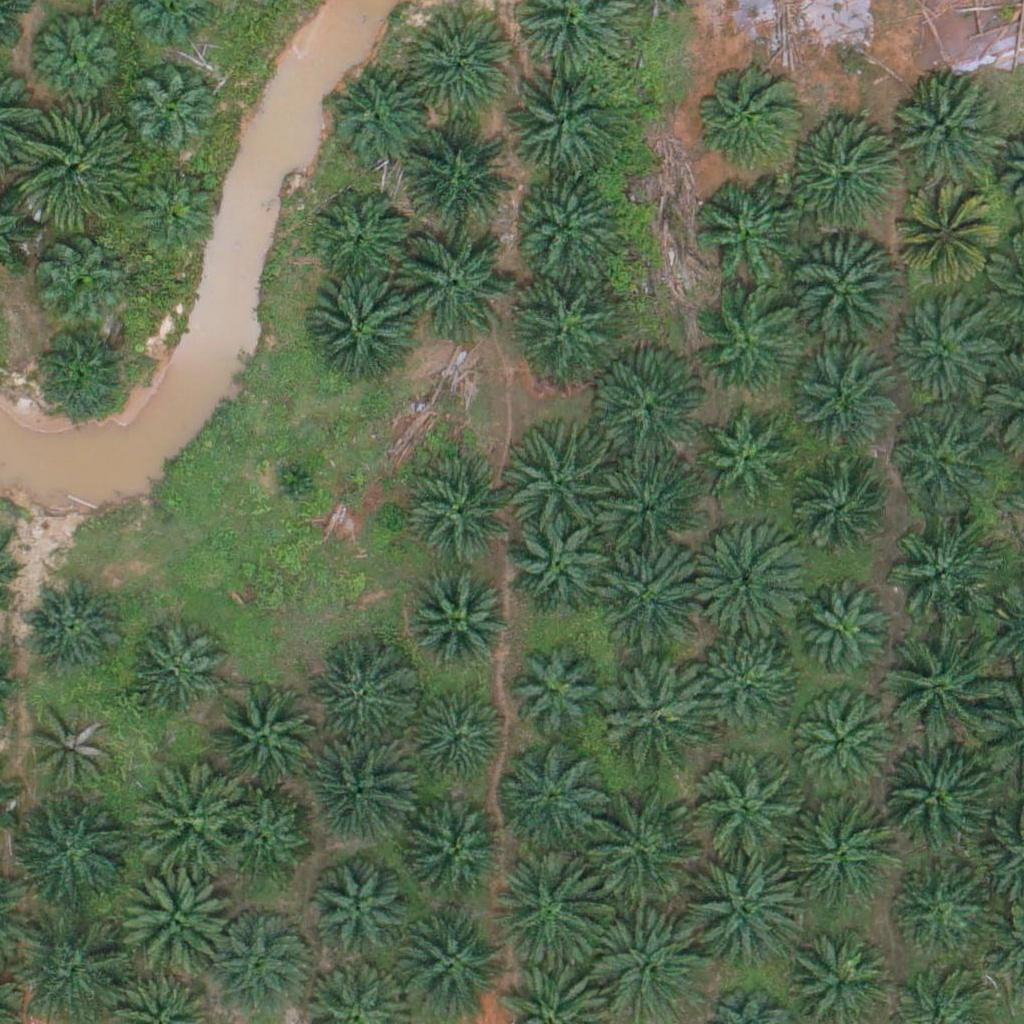Kelapa_Sawit: (881, 739, 994, 853), (688, 523, 801, 637), (597, 539, 710, 653), (488, 856, 601, 970), (514, 166, 627, 280), (391, 909, 504, 1023), (505, 71, 618, 185), (403, 7, 516, 121), (880, 633, 993, 746), (789, 239, 902, 352), (783, 797, 896, 910), (691, 181, 804, 294), (693, 758, 806, 871), (602, 657, 715, 770), (302, 278, 415, 391), (303, 736, 416, 849), (19, 108, 132, 221), (694, 286, 806, 400), (495, 740, 607, 854), (692, 58, 804, 172), (402, 115, 514, 229), (886, 512, 998, 625), (695, 855, 807, 968), (595, 361, 707, 474), (584, 790, 696, 903), (506, 269, 618, 382), (506, 417, 618, 530), (394, 226, 506, 339), (208, 680, 320, 793), (131, 763, 243, 876), (118, 861, 230, 974), (16, 795, 128, 908), (888, 77, 1000, 190), (778, 121, 890, 234), (887, 298, 987, 399), (889, 410, 989, 511), (893, 863, 993, 964), (795, 355, 895, 456), (790, 695, 890, 796), (696, 410, 796, 511), (507, 645, 607, 746), (508, 515, 608, 616), (309, 188, 409, 289), (309, 866, 409, 967), (210, 910, 310, 1011), (124, 621, 224, 722), (328, 68, 428, 169), (893, 192, 993, 292), (787, 469, 887, 569), (698, 642, 798, 742), (598, 458, 698, 558), (409, 466, 509, 566), (410, 575, 510, 675), (410, 691, 510, 791), (406, 807, 506, 907), (312, 651, 412, 751), (30, 323, 130, 423), (21, 576, 121, 676), (30, 7, 130, 107), (800, 589, 888, 678), (220, 794, 308, 882), (34, 230, 122, 318), (131, 165, 219, 253), (30, 707, 117, 795), (129, 73, 216, 161), (267, 453, 317, 504)
